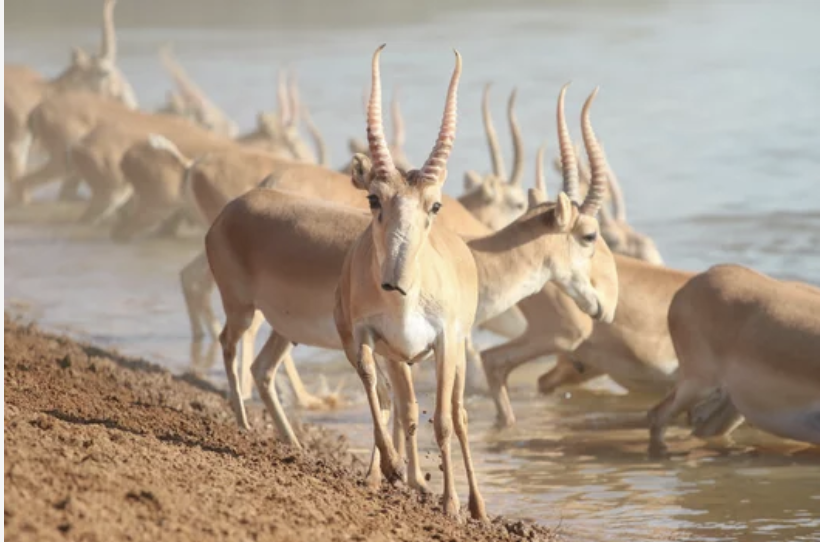saiga: (197, 47, 485, 542)
